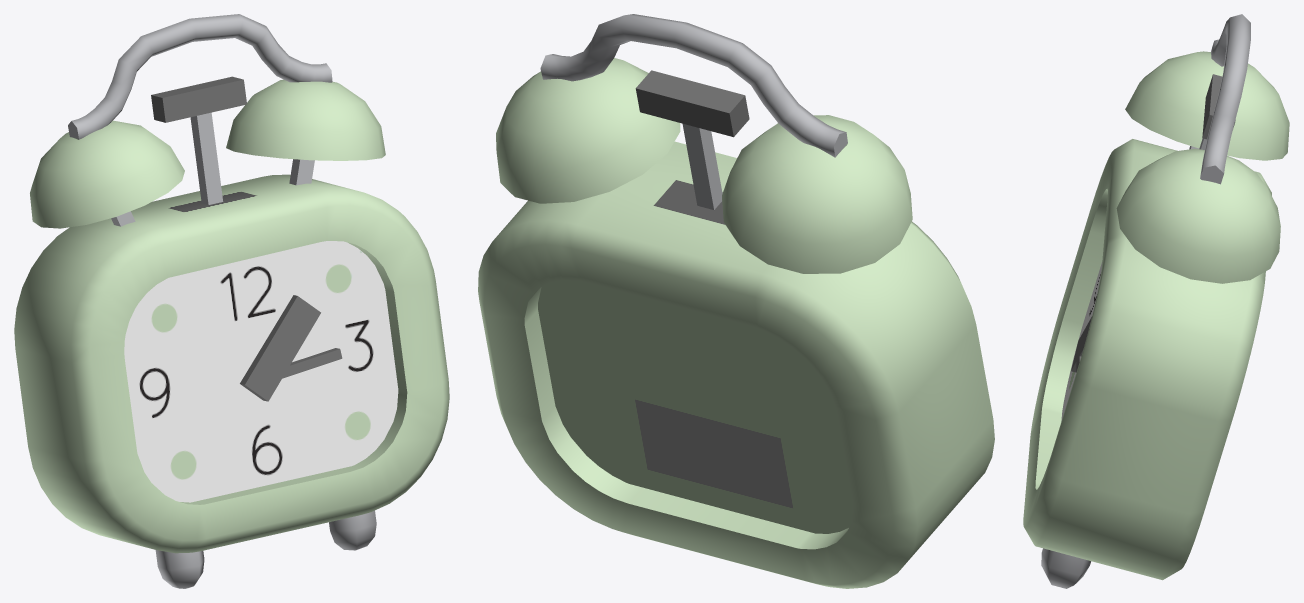
File: mintclock.fbx
3 views of the same model, side by side, from view 1: azimuth 30°, elevation 25°; view 2: azimuth 150°, elevation 25°; view 3: azimuth 270°, elevation 25° (orthographic). The views are drawn at different scales.
Parts seen in each view (by area): view 1: Cube_2; view 2: Cube_2; view 3: Cube_2.
Part boxes in pixels (x1,y1,x2,y2): Cube_2: (14,14,449,588); Cube_2: (478,14,994,588); Cube_2: (1023,14,1289,588).
Size of the model in its own units: 171 by 220 by 104.
Materials: 1 (1 with a texture image).
